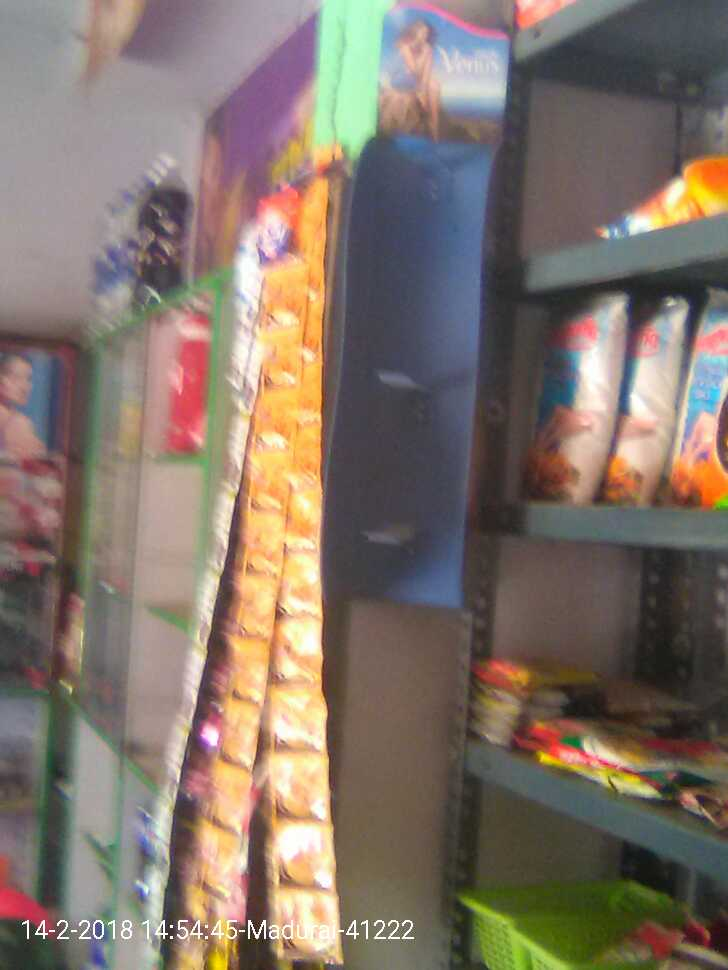reject: (426, 214, 536, 333)
